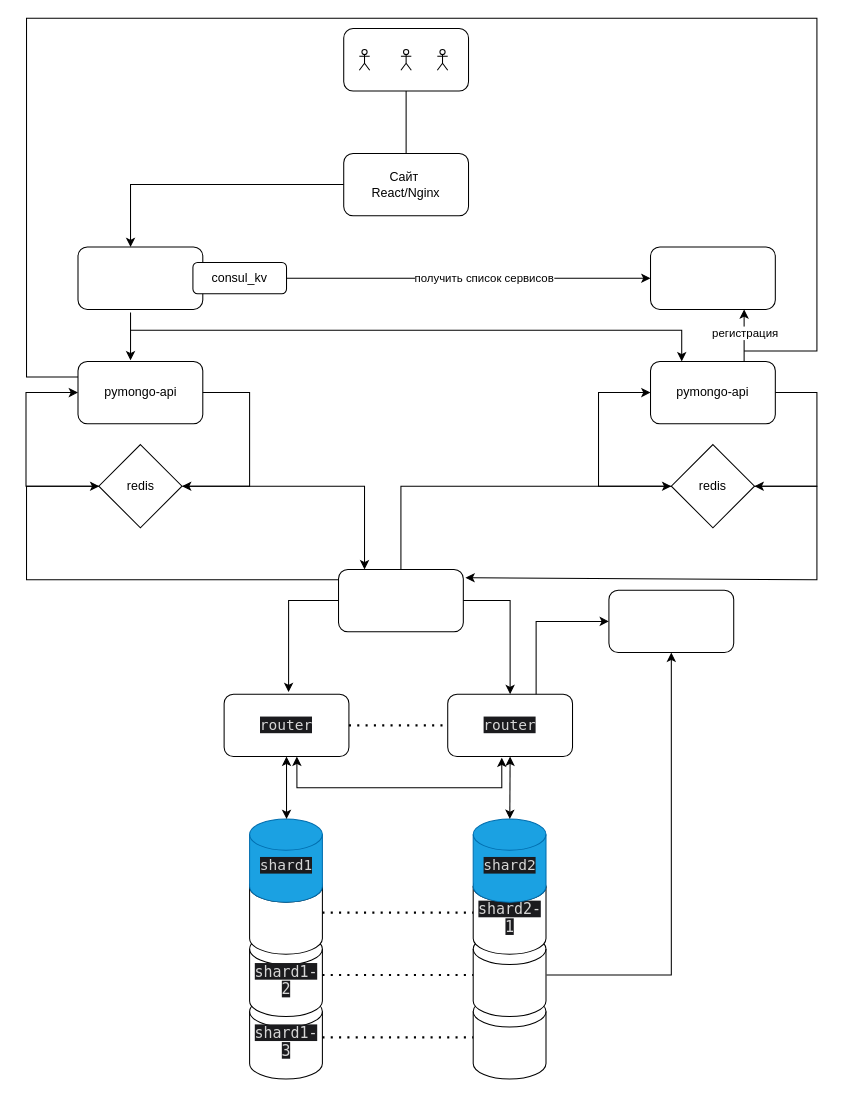
Image size: 843x1097. Some labels were removed from this diagram. Here are the shapes that lost their labels. From the top down, the centre of each, then its label:
(x=140, y=277): APISIX Gateway
(x=712, y=277): C onsul
(x=400, y=600): driver
(x=671, y=621): configSrv
(x=285, y=912): shard1-1
(x=509, y=974): shard2-2
(x=509, y=1037): shard2-3
